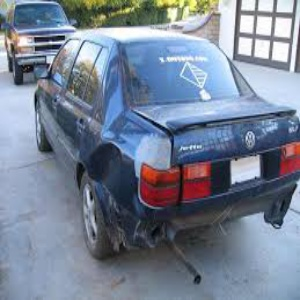bumper: (99, 210, 181, 255)
